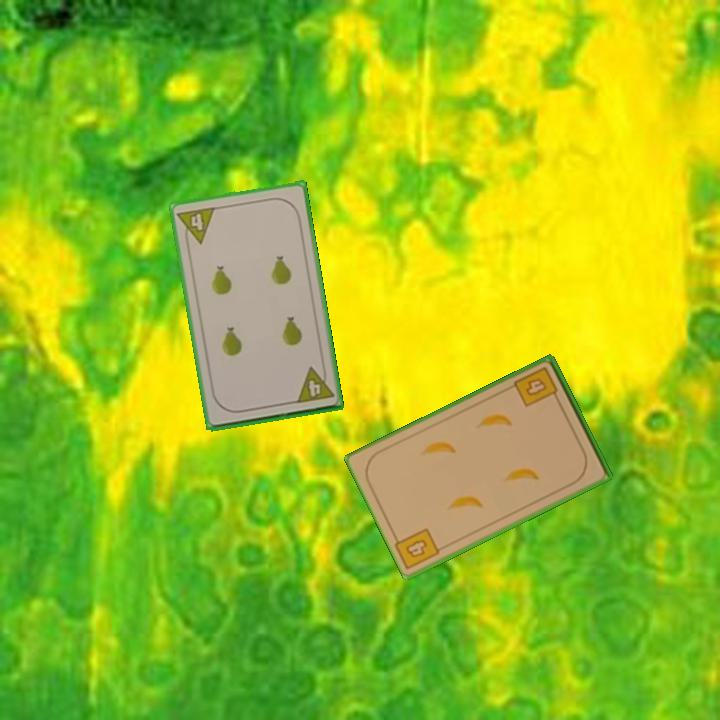4b: (511, 363, 562, 410), (402, 536, 430, 561)
4p: (174, 203, 218, 248), (292, 362, 337, 406)
